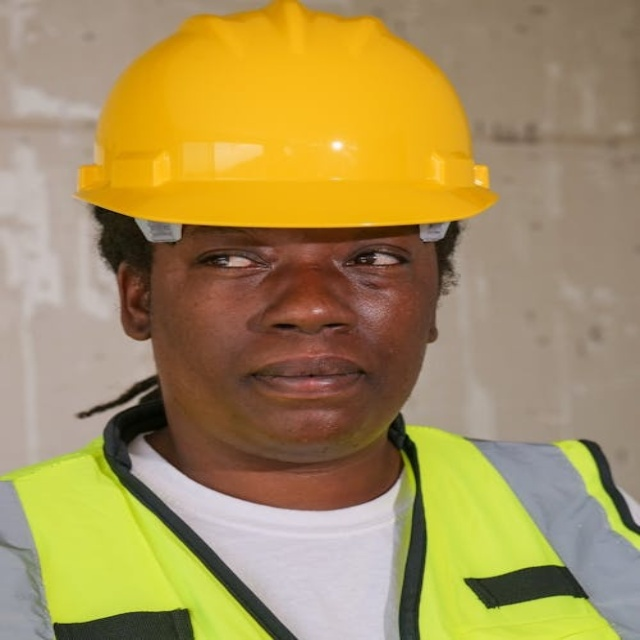Sin_gafas: (184, 224, 420, 295)
Sin_mascara: (206, 346, 396, 429)
